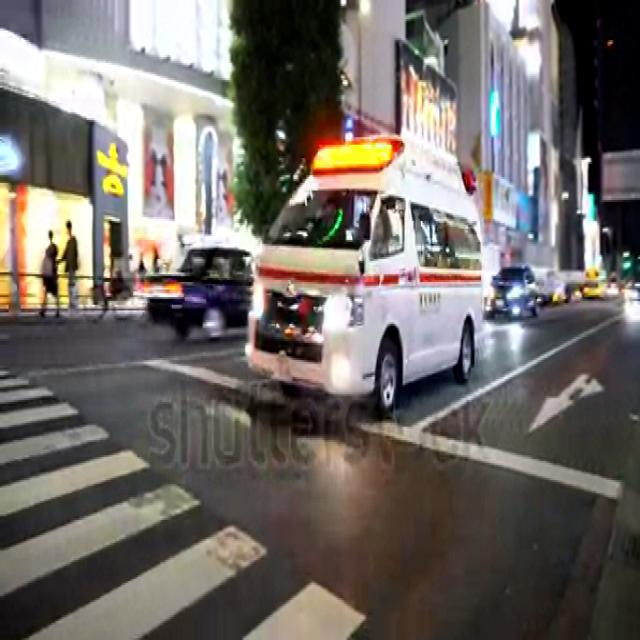ambulance: (242, 135, 486, 423)
